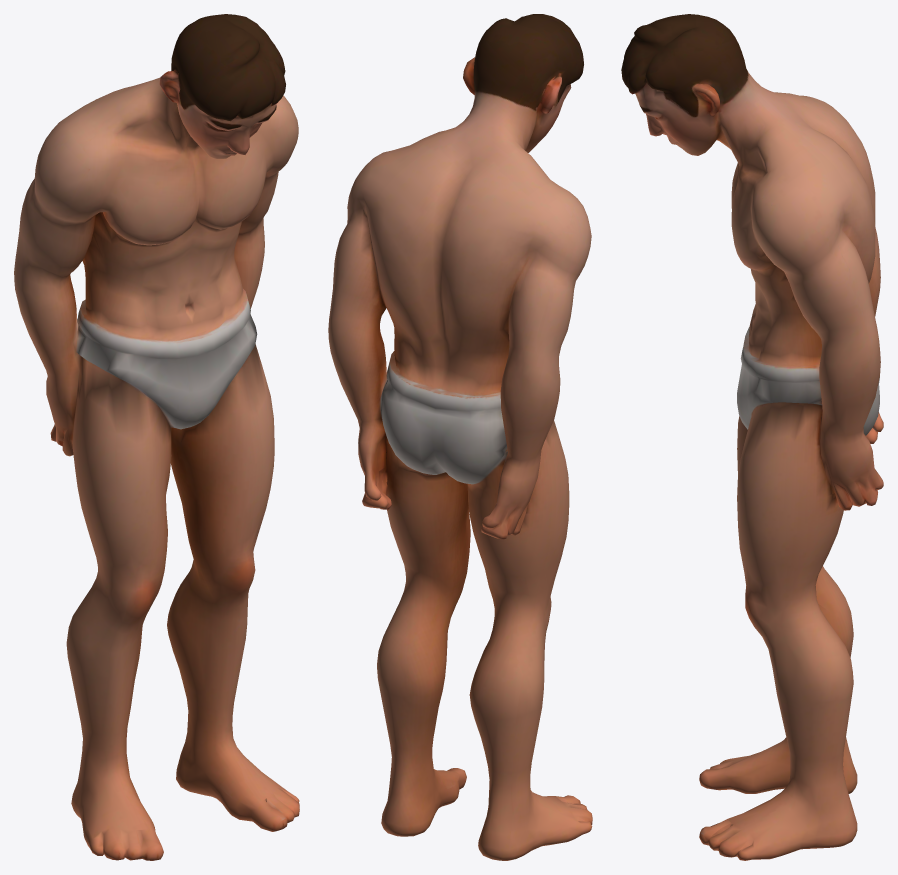
The model's file is Ruins__collapsed_b5f96b18_v1.cluster.glb.
The picture shows the model from 3 angles, left to right: view 1: azimuth 30°, elevation 25°; view 2: azimuth 150°, elevation 25°; view 3: azimuth 270°, elevation 25°; orthographic projection. The views are drawn at different scales.
Visible parts, largest first — view 1: material; view 2: material; view 3: material.
Part boxes in pixels (x1,y1,x2,y2): material: [14, 14, 299, 860]; material: [328, 14, 592, 860]; material: [621, 14, 883, 860].
Size of the model in its own units: 0.5923 by 1.9 by 0.5669.
1 material, 1 textured.
